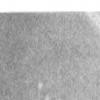white: (35, 79, 46, 93), (42, 91, 52, 100), (54, 95, 62, 100)
